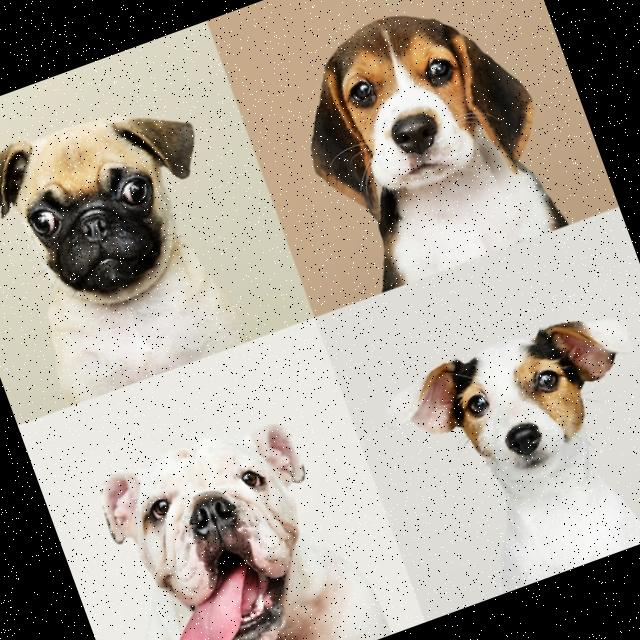Dog: (275, 0, 577, 298), (0, 84, 265, 408), (383, 300, 640, 608), (69, 398, 391, 640)
